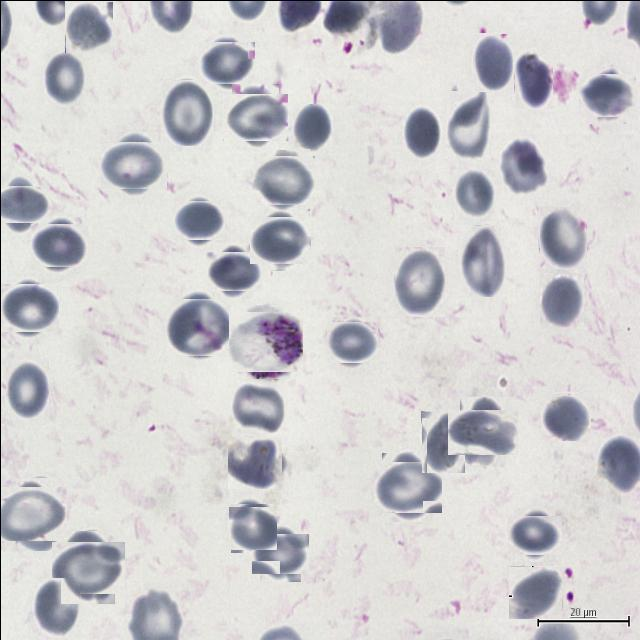red blood cell: (56, 535, 119, 598), (0, 481, 61, 545), (166, 296, 227, 357), (376, 456, 436, 516), (394, 246, 444, 316), (160, 78, 212, 145), (453, 402, 511, 460), (105, 136, 162, 193), (459, 224, 504, 296), (444, 90, 490, 159), (256, 152, 312, 208), (226, 89, 283, 144), (538, 205, 586, 268), (1, 280, 55, 335), (230, 381, 285, 435), (253, 212, 307, 266), (498, 136, 545, 196), (508, 565, 561, 618), (227, 436, 281, 488), (420, 410, 464, 472), (34, 577, 80, 636), (4, 359, 48, 418), (34, 219, 84, 270), (582, 70, 632, 120), (64, 0, 112, 52), (539, 272, 583, 328), (255, 528, 304, 577), (541, 392, 590, 441), (202, 38, 251, 86), (513, 48, 552, 108), (472, 32, 512, 90), (43, 50, 85, 105), (209, 246, 257, 294), (510, 510, 558, 558), (174, 196, 222, 242), (328, 319, 375, 365), (228, 504, 274, 550), (452, 168, 494, 218), (0, 179, 43, 227), (402, 105, 440, 158), (292, 104, 332, 154)
trophozoite: (232, 307, 300, 375)
